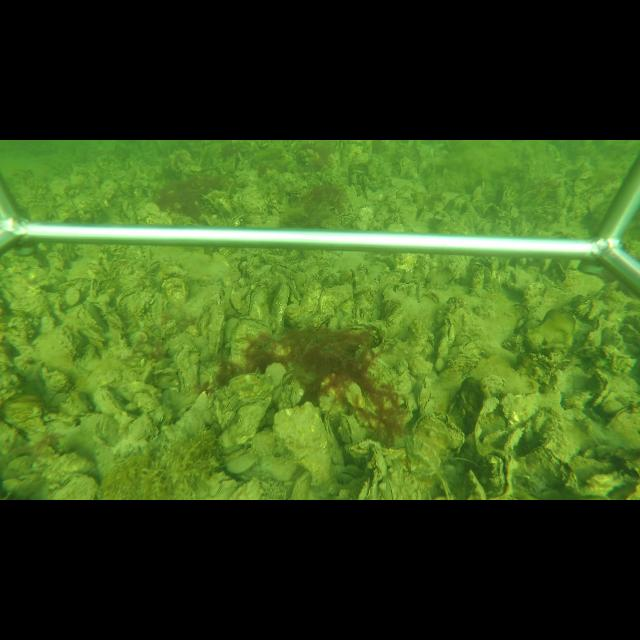Oyster-Closed: (271, 400, 333, 482), (218, 384, 278, 451), (406, 414, 465, 473), (161, 390, 209, 439), (201, 283, 228, 361), (228, 317, 271, 365), (47, 471, 100, 498), (112, 286, 153, 316), (270, 279, 290, 338), (162, 276, 190, 306), (248, 285, 270, 320), (216, 393, 237, 427), (341, 414, 362, 444), (292, 472, 312, 495), (379, 478, 395, 499)
Oyster-Open: (481, 450, 515, 500), (438, 317, 456, 358)
